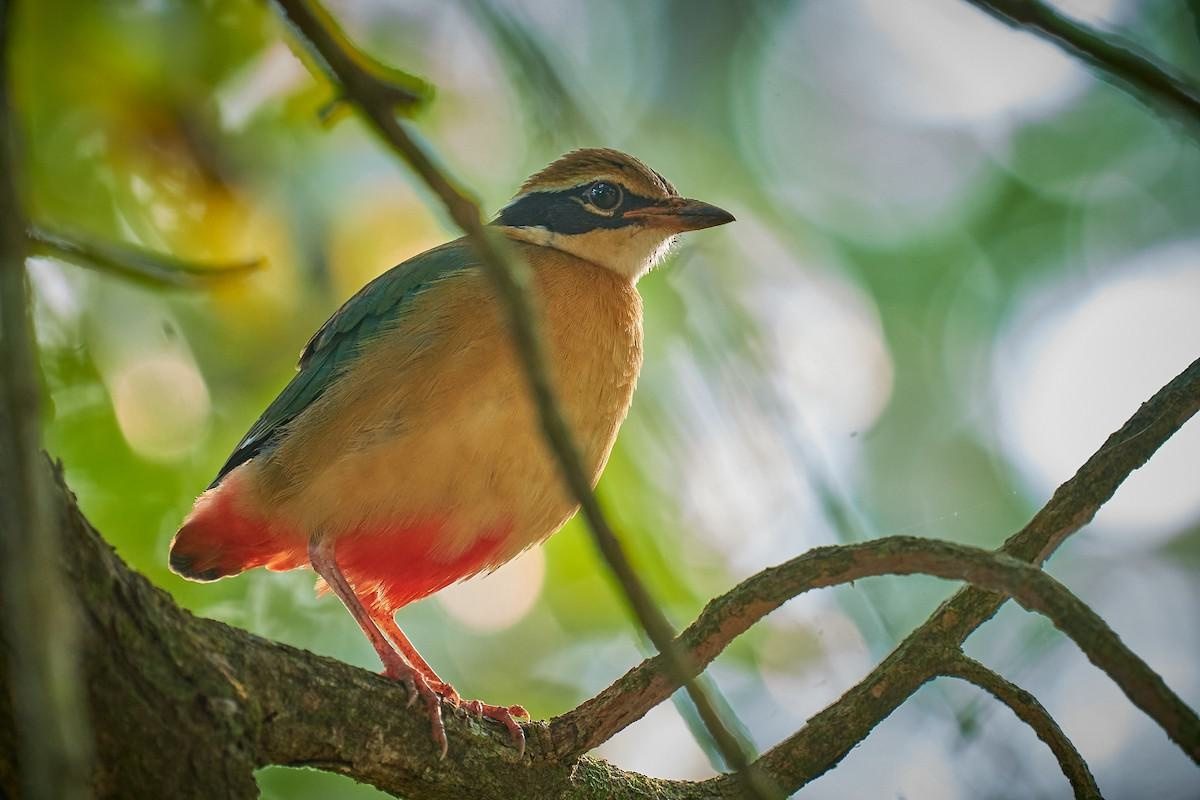pitta: (169, 124, 753, 648)
